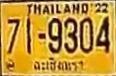0: (79, 17, 93, 52)
1: (26, 18, 31, 53)
3: (64, 17, 76, 52)
4: (95, 16, 109, 51)
7: (6, 18, 20, 53)
9: (48, 18, 61, 52)
CCO: (31, 56, 85, 73)
